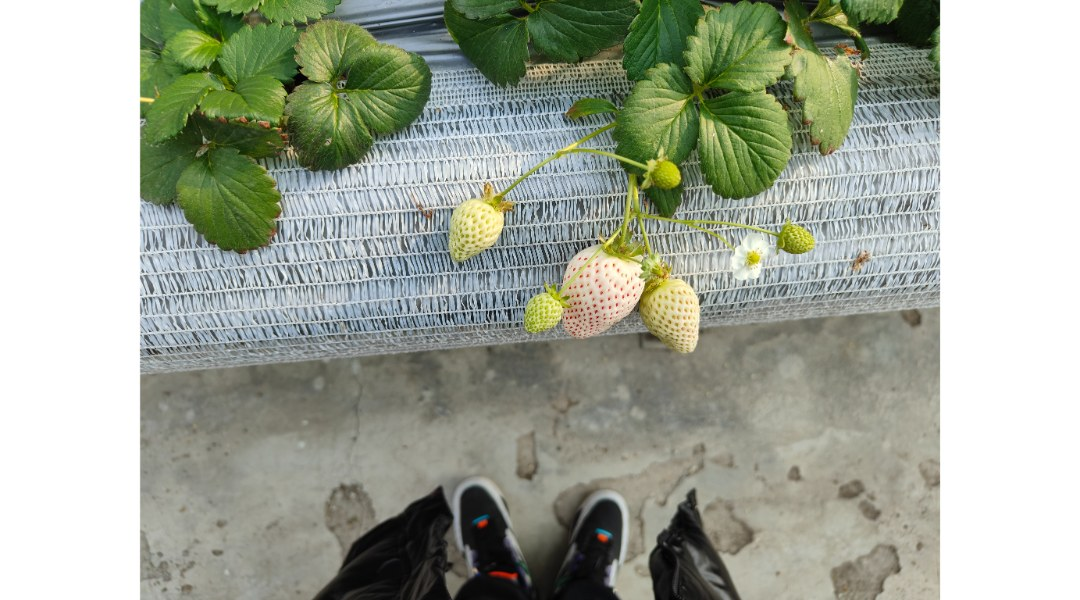berry: (545, 234, 655, 353), (629, 267, 711, 369), (437, 176, 506, 276), (506, 281, 570, 333), (780, 210, 820, 257), (640, 155, 688, 190)
flower: (730, 227, 770, 285)
strain: (494, 159, 552, 202), (582, 143, 647, 173), (696, 214, 779, 235), (691, 228, 731, 256)
